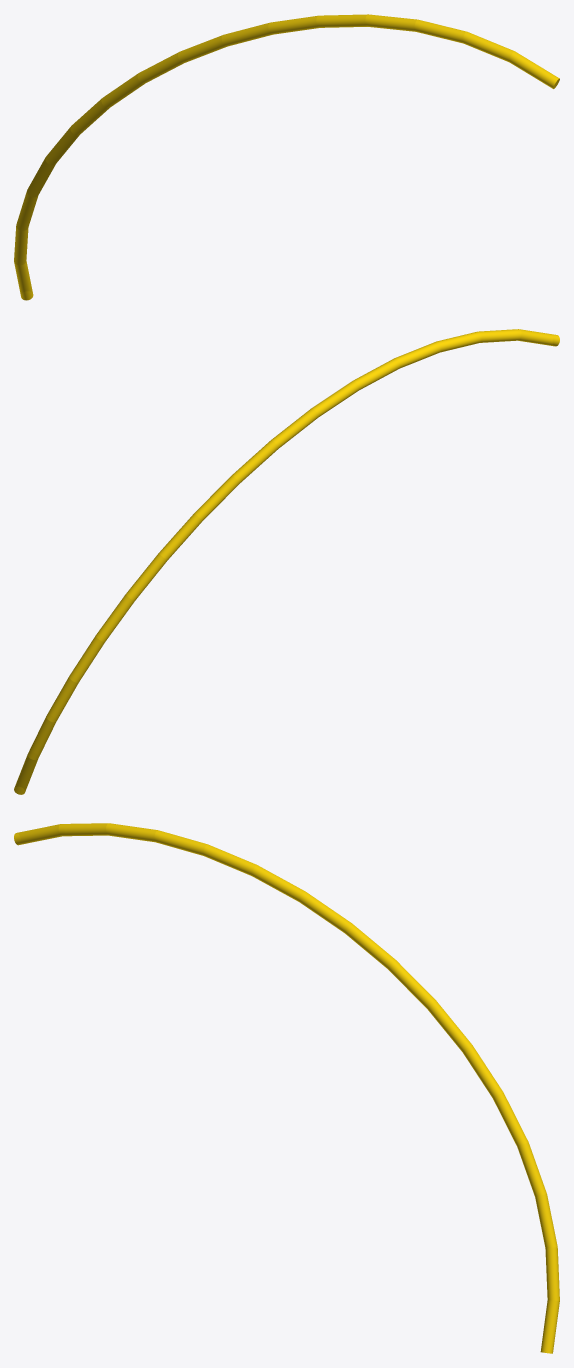
File: Event_421127236_track_34.fbx
The picture shows the model from 3 angles, top to bottom: view 1: azimuth 90°, elevation 25°; view 2: azimuth 150°, elevation 25°; view 3: azimuth 270°, elevation 25°; orthographic projection. The views are drawn at different scales.
Parts seen in each view (by area): view 1: Model; view 2: Model; view 3: Model.
Boxes of the visible parts, <box> form: Model: <box>14,14,559,300</box>; Model: <box>14,329,559,794</box>; Model: <box>14,823,559,1353</box>.
Bounding box in the file's own units: 1.18 × 1.42 × 1.75.
